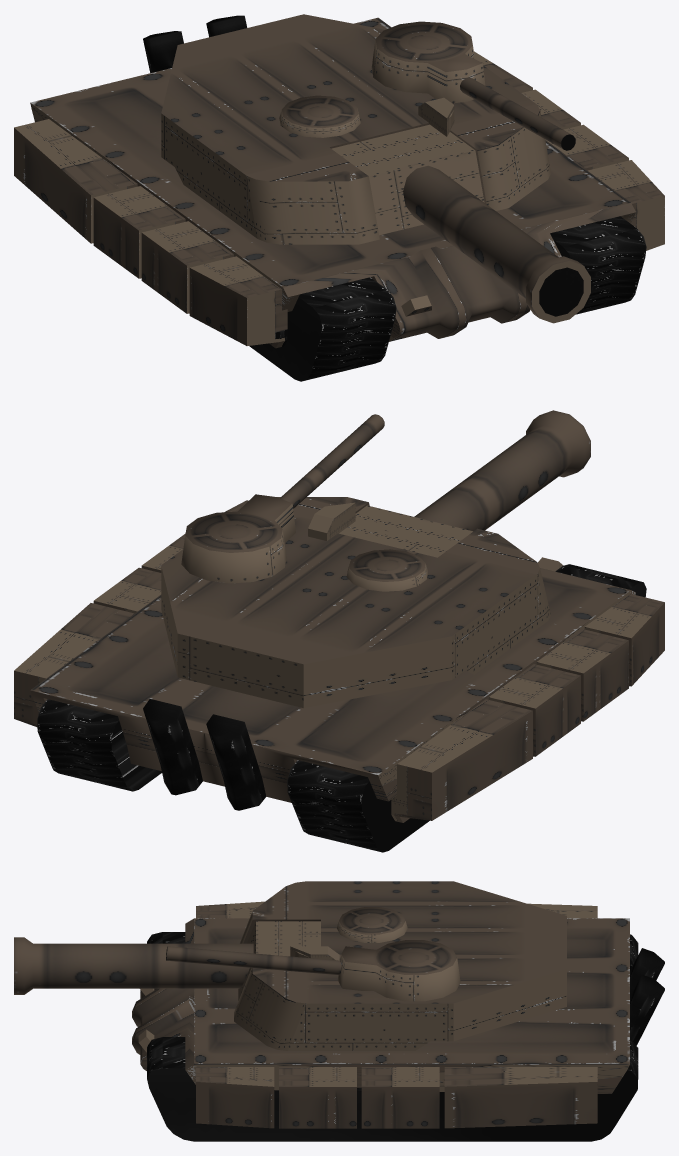
File: Tank_Lvl3.fbx
The picture shows the model from 3 angles, top to bottom: view 1: azimuth 30°, elevation 25°; view 2: azimuth 150°, elevation 25°; view 3: azimuth 270°, elevation 25°; orthographic projection. The views are drawn at different scales.
Parts seen in each view (by area): view 1: Tank_Lvl3; view 2: Tank_Lvl3; view 3: Tank_Lvl3.
Boxes of the visible parts, <box> form: Tank_Lvl3: <box>14,14,664,381</box>; Tank_Lvl3: <box>14,410,664,852</box>; Tank_Lvl3: <box>14,881,664,1141</box>.
Size of the model in its own units: 5.57 by 1.57 by 3.77.
